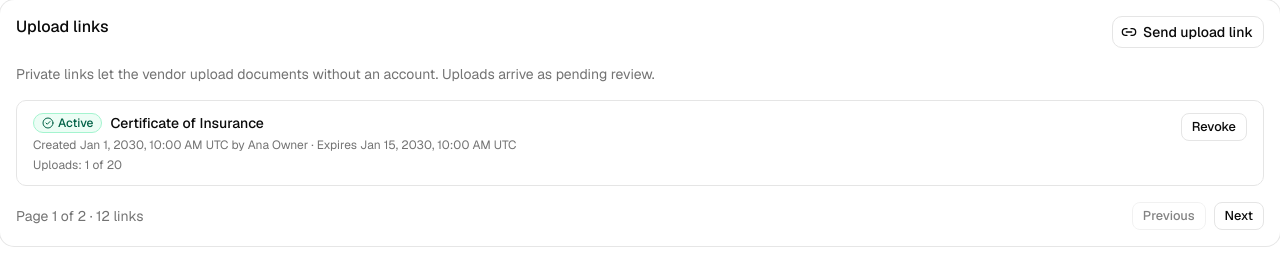
Test: UploadLinksCard › paginates
This screenshot has width=1280, height=264.
Click the button "Next". click: click(1239, 216)
box: [1214,202,1264,230]
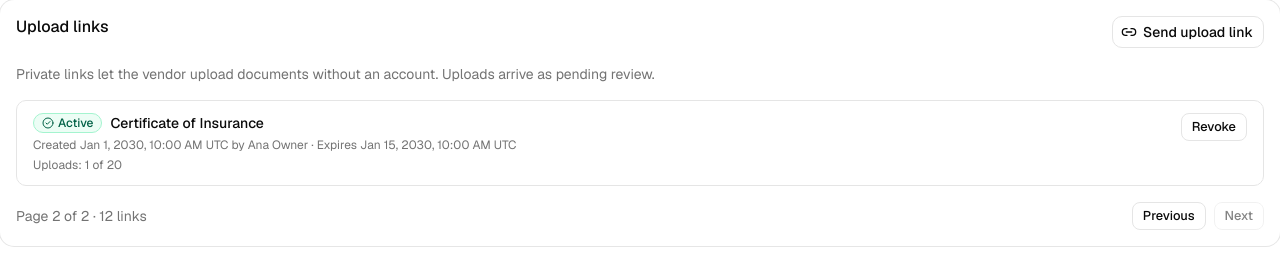
Now the text "Page 2 of 2 · 12 links" is shown, box [16,206,147,226]
